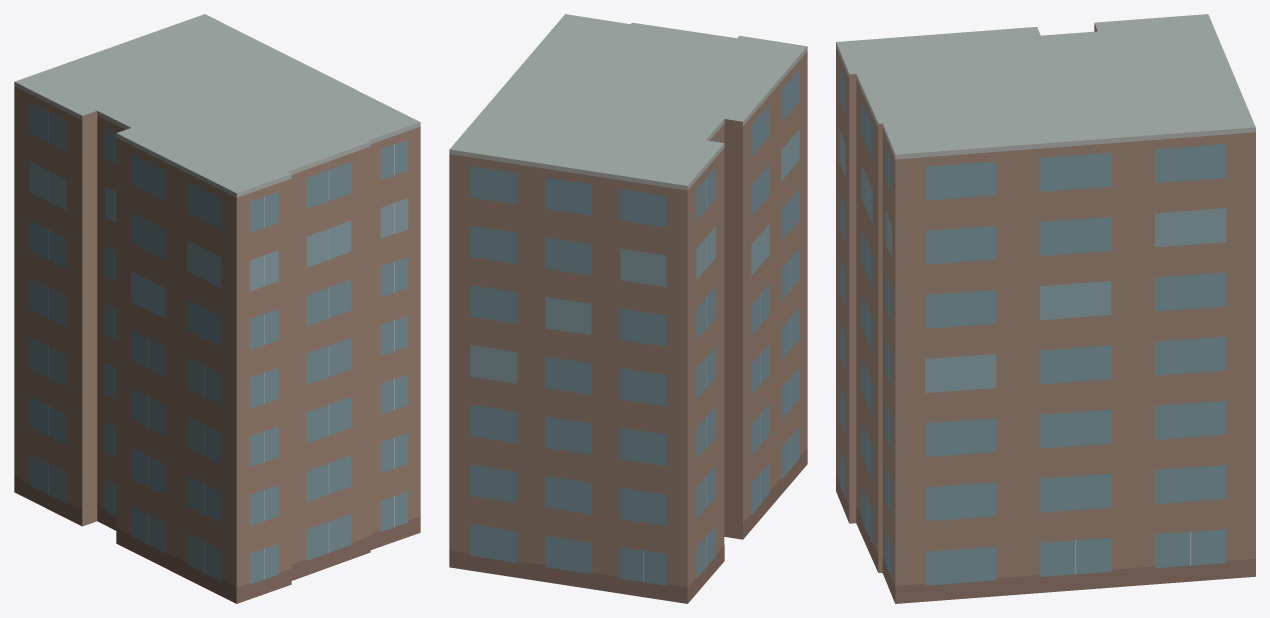
The model's file is survey-upis-33009085.glb.
3 views of the same model, side by side, from view 1: azimuth 30°, elevation 25°; view 2: azimuth 150°, elevation 25°; view 3: azimuth 270°, elevation 25° (orthographic). The views are drawn at different scales.
Visible parts, largest first — view 1: survey-upis-33009085.tmp; view 2: survey-upis-33009085.tmp; view 3: survey-upis-33009085.tmp.
Part boxes in pixels (x1,y1,x2,y2): survey-upis-33009085.tmp: (14,14,420,603); survey-upis-33009085.tmp: (449,14,807,603); survey-upis-33009085.tmp: (836,14,1255,603).
Size of the model in its own units: 14.98 by 22.3 by 18.89.
